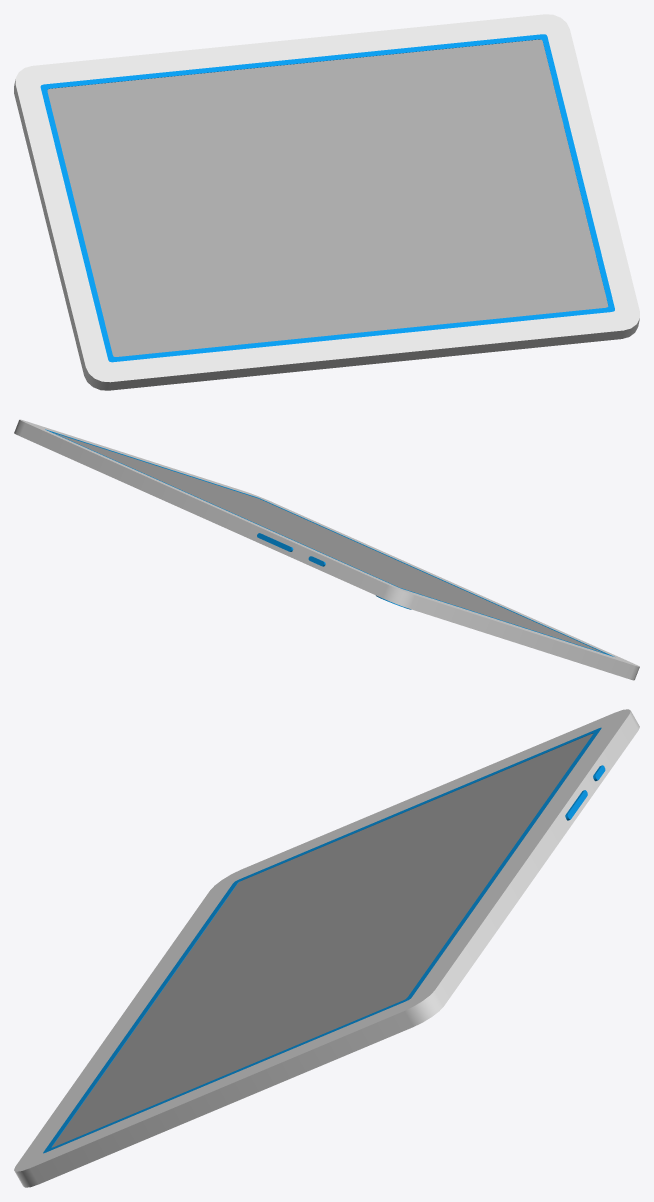
The model's file is SM_Tablets.fbx.
3 renders of one model, top to bottom at view 1: azimuth 30°, elevation 25°; view 2: azimuth 150°, elevation 25°; view 3: azimuth 270°, elevation 25°, orthographic. The views are drawn at different scales.
Parts seen in each view (by area): view 1: Tablet_screen, Tablet_body, Tablet_details; view 2: Tablet_body, Tablet_screen, Tablet_details; view 3: Tablet_screen, Tablet_body, Tablet_details.
Boxes of the visible parts, x1,y1,x2,y2 form: Tablet_screen: [47, 39, 608, 356]; Tablet_body: [14, 14, 639, 390]; Tablet_details: [40, 34, 614, 362]; Tablet_body: [14, 419, 639, 680]; Tablet_screen: [54, 433, 604, 653]; Tablet_details: [45, 429, 614, 656]; Tablet_screen: [51, 733, 593, 1147]; Tablet_body: [14, 709, 639, 1187]; Tablet_details: [43, 727, 605, 1153].
Bounding box in the file's own units: 32.34 × 10.6 × 24.64.
